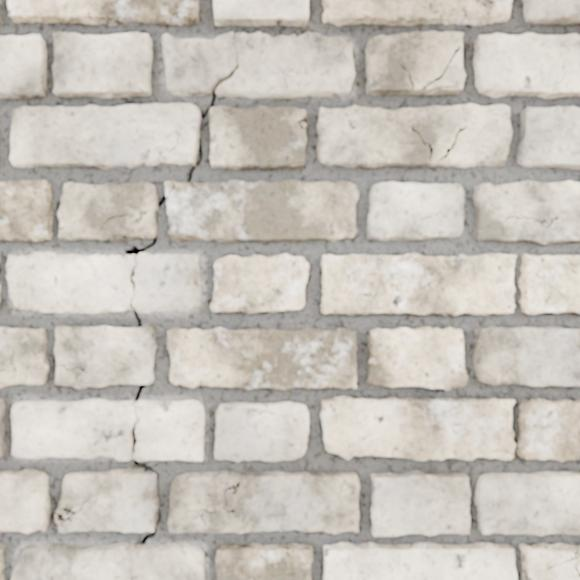brick: (10, 104, 200, 168), (318, 104, 511, 167), (321, 397, 514, 459), (167, 180, 358, 242), (322, 253, 515, 314), (168, 471, 359, 532), (168, 328, 356, 389), (323, 543, 516, 579), (474, 33, 579, 97), (473, 181, 579, 243), (55, 469, 158, 532), (475, 472, 579, 534), (55, 325, 156, 388), (53, 33, 151, 97), (371, 471, 469, 535), (366, 31, 464, 94), (474, 327, 579, 385), (210, 105, 305, 169), (367, 328, 466, 389), (58, 182, 156, 241), (211, 254, 308, 312), (367, 182, 463, 240), (215, 402, 308, 460), (323, 0, 511, 25), (8, 0, 198, 24), (517, 107, 579, 168), (517, 399, 579, 460), (519, 254, 579, 313), (216, 544, 312, 579), (0, 180, 51, 241), (0, 469, 49, 532), (0, 35, 45, 98), (0, 327, 48, 386), (214, 0, 308, 25), (520, 544, 579, 579), (523, 0, 579, 23), (0, 399, 5, 457), (0, 544, 4, 579), (165, 182, 172, 193)
broken_brick: (161, 31, 355, 98), (5, 251, 202, 314), (10, 398, 204, 461), (10, 541, 206, 579)
crack: (185, 136, 220, 216), (200, 64, 239, 119), (124, 420, 159, 481), (420, 45, 461, 90), (134, 507, 161, 546), (55, 494, 91, 523), (546, 548, 579, 577), (123, 235, 157, 255), (157, 181, 175, 209), (131, 384, 149, 405), (129, 300, 142, 328), (56, 364, 87, 371), (296, 115, 306, 129), (490, 449, 512, 454), (112, 234, 126, 241), (300, 25, 306, 35), (269, 33, 278, 38), (152, 362, 155, 370), (130, 574, 134, 579), (154, 216, 156, 223)
